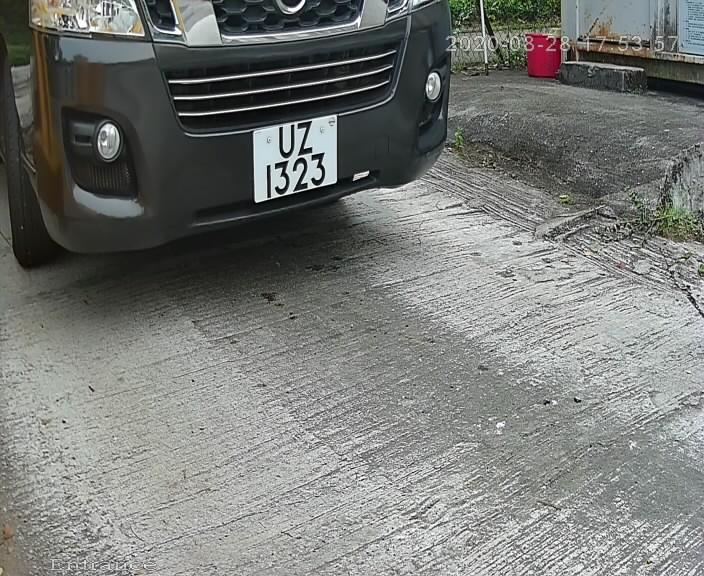Car: (16, 1, 491, 312)
License Plate: (239, 111, 343, 206)
